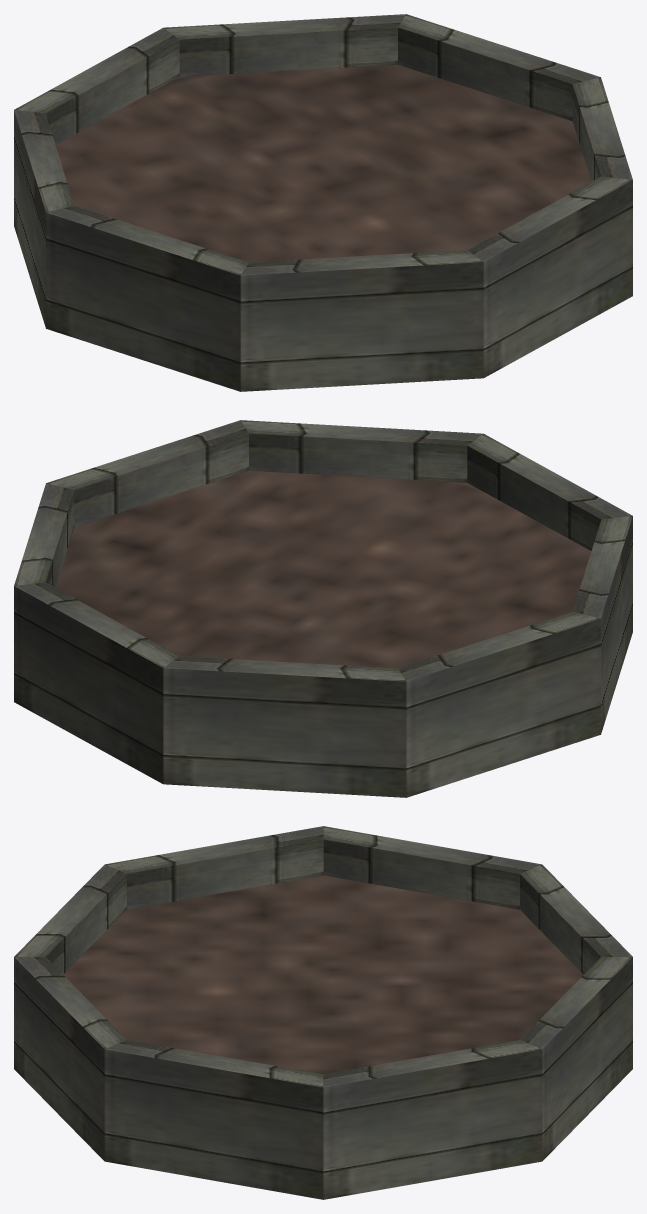
File: gardenbed.fbx
3 views of the same model, one above another, from view 1: azimuth 30°, elevation 25°; view 2: azimuth 150°, elevation 25°; view 3: azimuth 270°, elevation 25° (orthographic). The views are drawn at different scales.
Visible parts, largest first — view 1: GardenBed; view 2: GardenBed; view 3: GardenBed.
Boxes of the visible parts, x1=… form: GardenBed: x1=14, y1=14, x2=632, y2=391; GardenBed: x1=14, y1=420, x2=632, y2=797; GardenBed: x1=14, y1=826, x2=632, y2=1199.
Size of the model in its own units: 538 by 108 by 538.
Materials: 2 (2 with a texture image).
